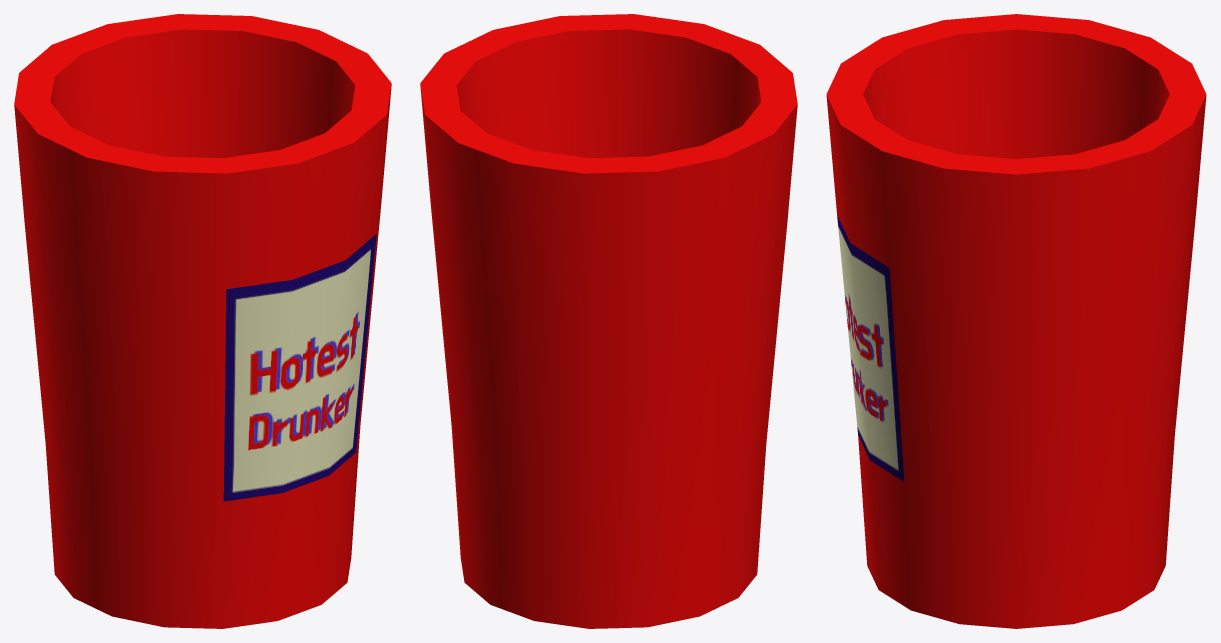
The model's file is Cup_2.fbx.
3 renders of one model, left to right at view 1: azimuth 30°, elevation 25°; view 2: azimuth 150°, elevation 25°; view 3: azimuth 270°, elevation 25°, orthographic.
Visible parts, largest first — view 1: pCylinder4; view 2: pCylinder4; view 3: pCylinder4.
Boxes of the visible parts, <box> form: pCylinder4: <box>14,14,391,628</box>; pCylinder4: <box>420,14,797,628</box>; pCylinder4: <box>826,14,1206,628</box>.
Size of the model in its own units: 0.7497 by 1.03 by 0.7497.
2 materials, 2 textured.
